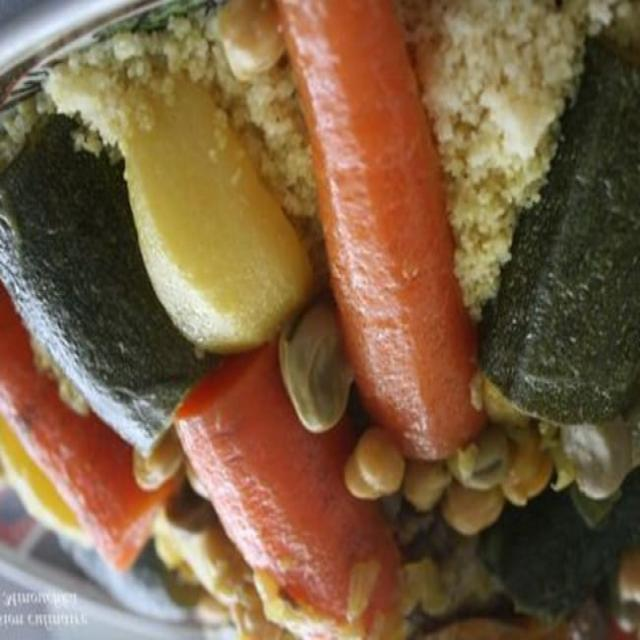Couscous: (4, 0, 640, 638)
